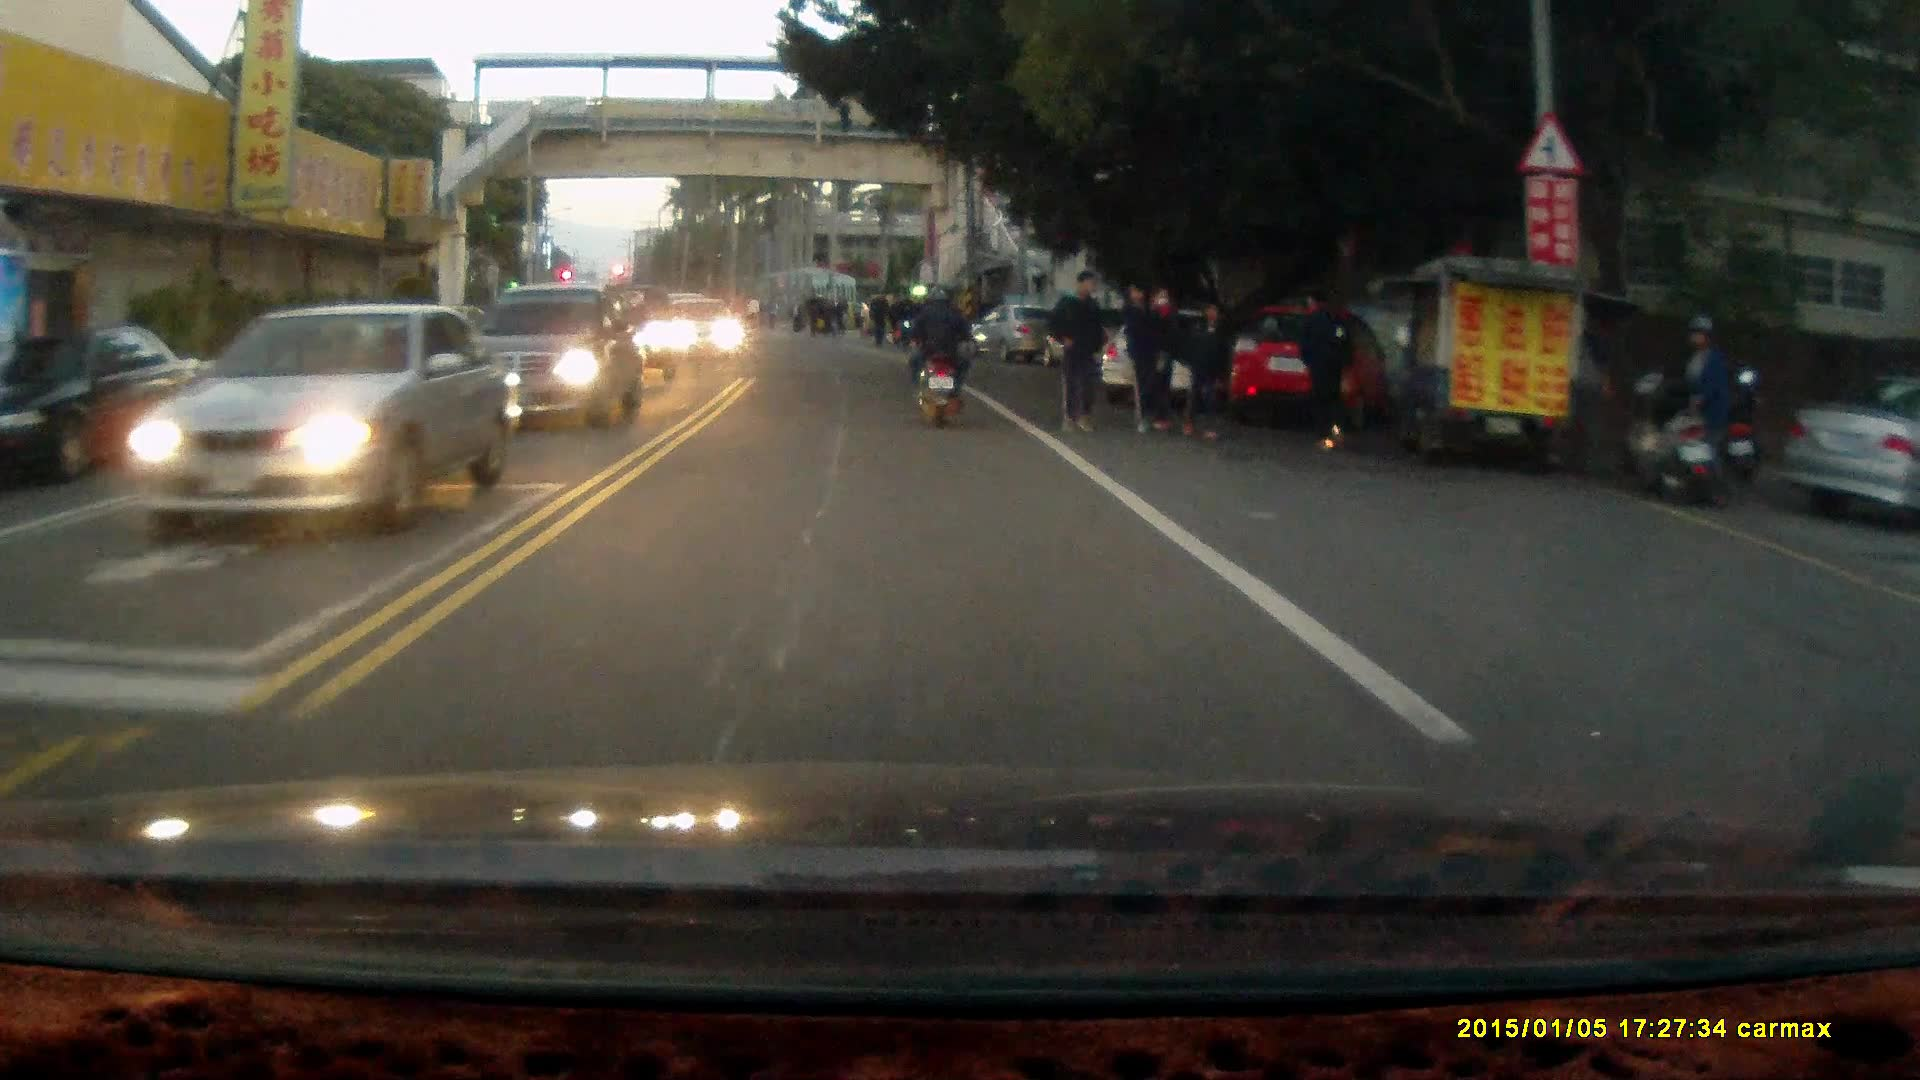pedestrian: (1690, 289, 1750, 479), (1046, 268, 1110, 437), (1292, 282, 1358, 445), (1179, 293, 1237, 443), (1120, 282, 1166, 437)
rider: (901, 278, 976, 431)
vehicle: (97, 299, 502, 527), (1, 324, 212, 488), (475, 280, 643, 427), (1778, 377, 1919, 535), (1220, 298, 1387, 422), (1092, 302, 1278, 413), (665, 296, 750, 361), (980, 301, 1062, 363)
